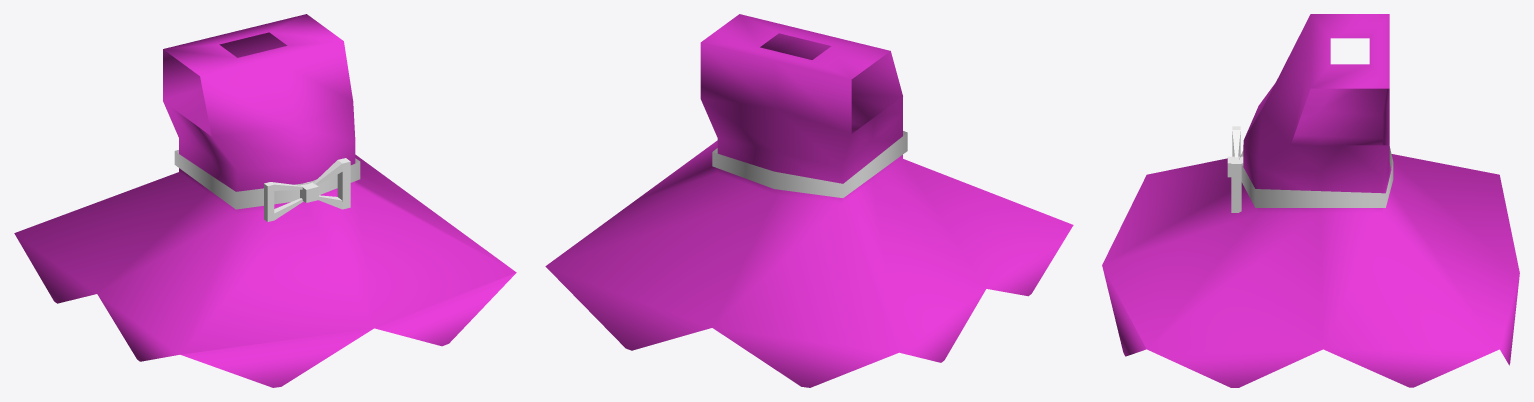
The model's file is pembe kudaleli elbise.fbx.
3 renders of one model, left to right at view 1: azimuth 30°, elevation 25°; view 2: azimuth 150°, elevation 25°; view 3: azimuth 270°, elevation 25°, orthographic. The views are drawn at different scales.
Visible parts, largest first — view 1: Cube.002; view 2: Cube.002; view 3: Cube.002.
Part boxes in pixels (bbox=[...]): Cube.002: bbox=[14, 14, 516, 387]; Cube.002: bbox=[545, 14, 1073, 387]; Cube.002: bbox=[1102, 14, 1519, 387].
Size of the model in its own units: 412 by 297 by 416.
